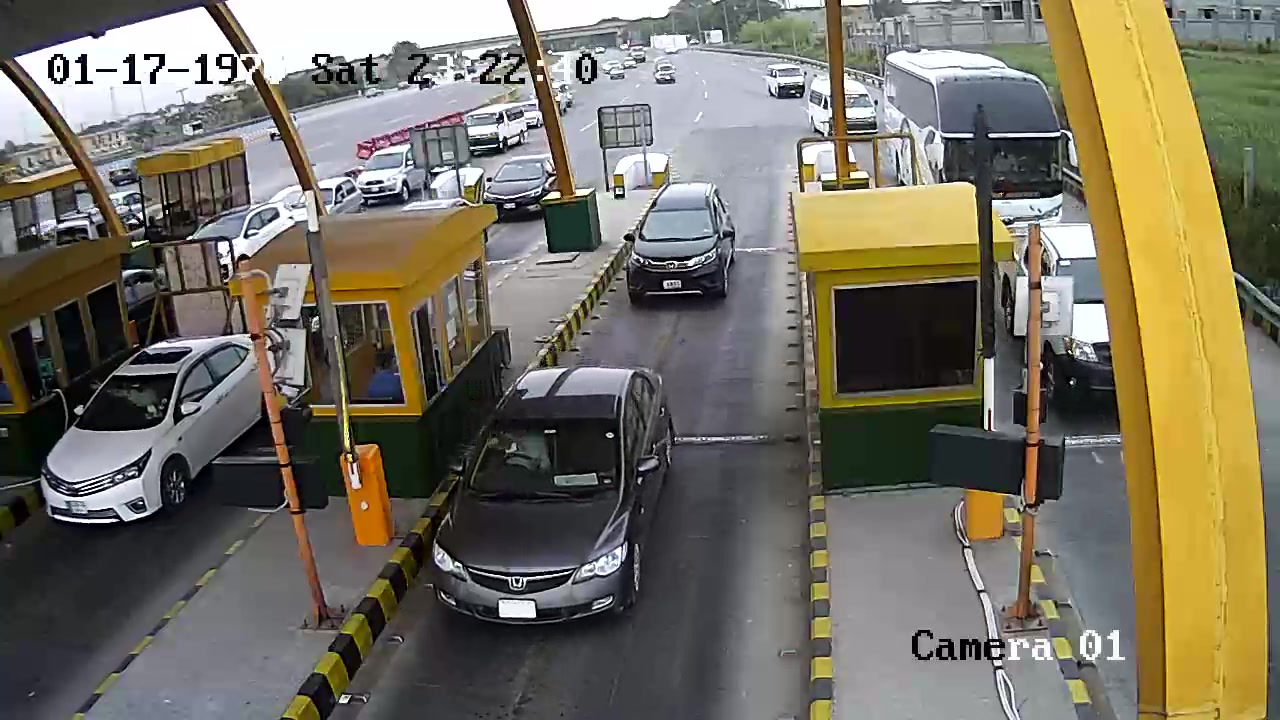F1: (428, 354, 679, 620), (626, 180, 737, 316)
